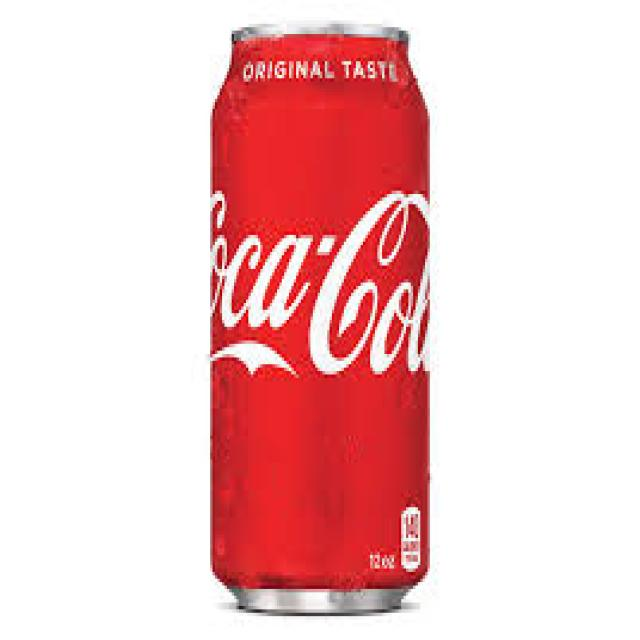metal: (210, 21, 428, 610)
